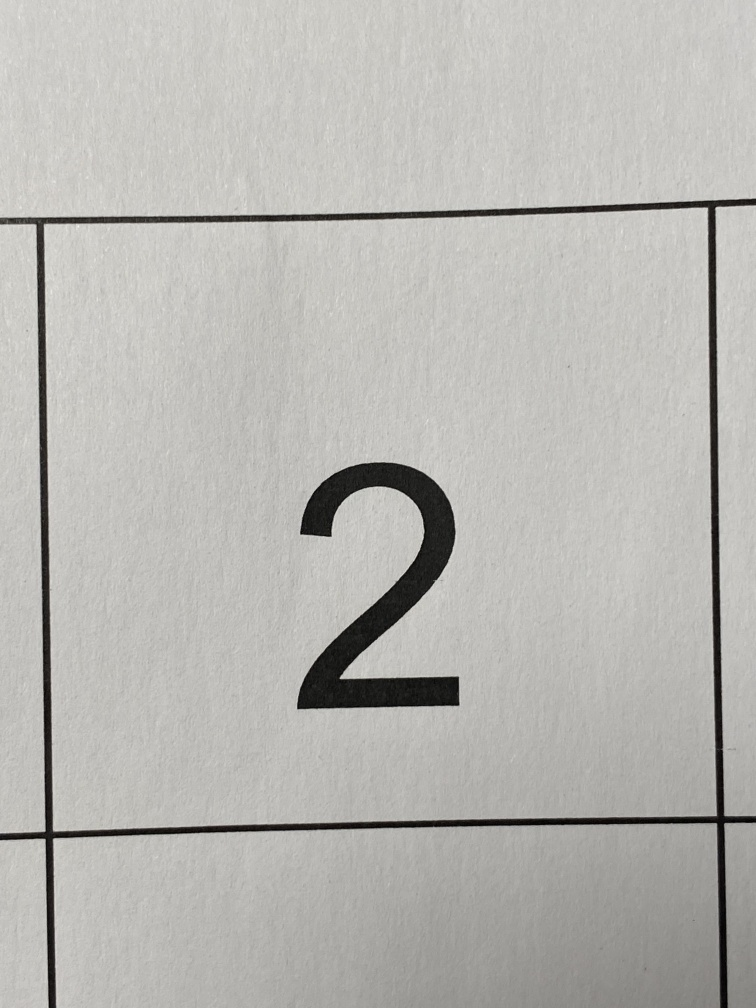two: (252, 404, 517, 792)
